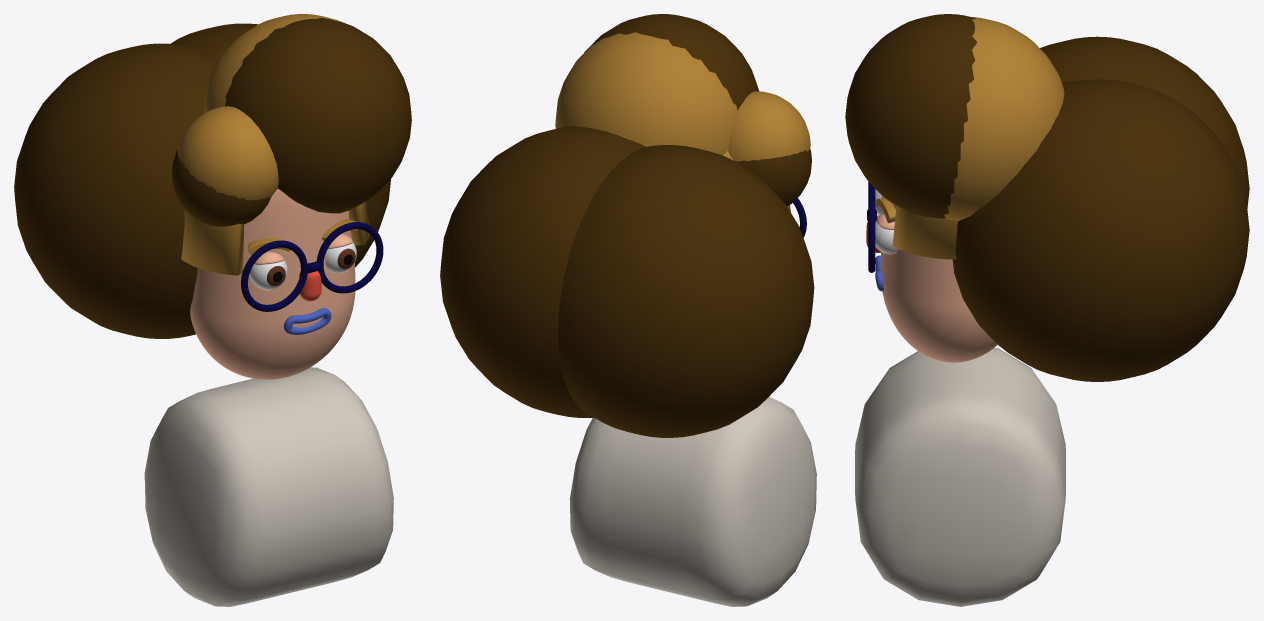
The model's file is avatar_0.glb.
3 views of the same model, side by side, from view 1: azimuth 30°, elevation 25°; view 2: azimuth 150°, elevation 25°; view 3: azimuth 270°, elevation 25° (orthographic). The views are drawn at different scales.
Parts seen in each view (by area): view 1: cheveux_1, body, head, cheveux_2, glasses, mouth, eye_right; view 2: cheveux_1, body, cheveux_2; view 3: cheveux_1, body, cheveux_2, head, glasses.
Boxes of the visible parts, x1,y1,x2,y2 form: cheveux_1: (14,18,411,338); body: (144,367,393,606); head: (190,189,355,379); cheveux_2: (178,14,369,275); glasses: (241,222,383,311); mouth: (283,308,331,334); eye_right: (249,260,287,289); cheveux_1: (440,14,814,437); body: (569,397,816,606); cheveux_2: (555,32,810,212); cheveux_1: (845,14,1249,381); body: (855,347,1065,606); cheveux_2: (892,17,1064,259); head: (880,195,997,362); glasses: (867,182,876,272).
Bounding box in the file's own units: 1.3 × 2.02 × 1.3.
